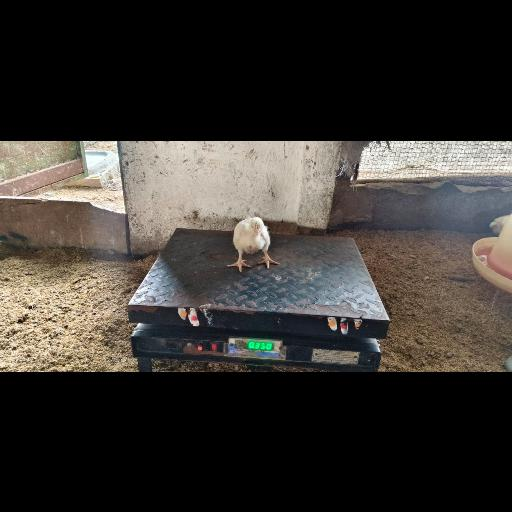chick: (227, 217, 280, 272)
